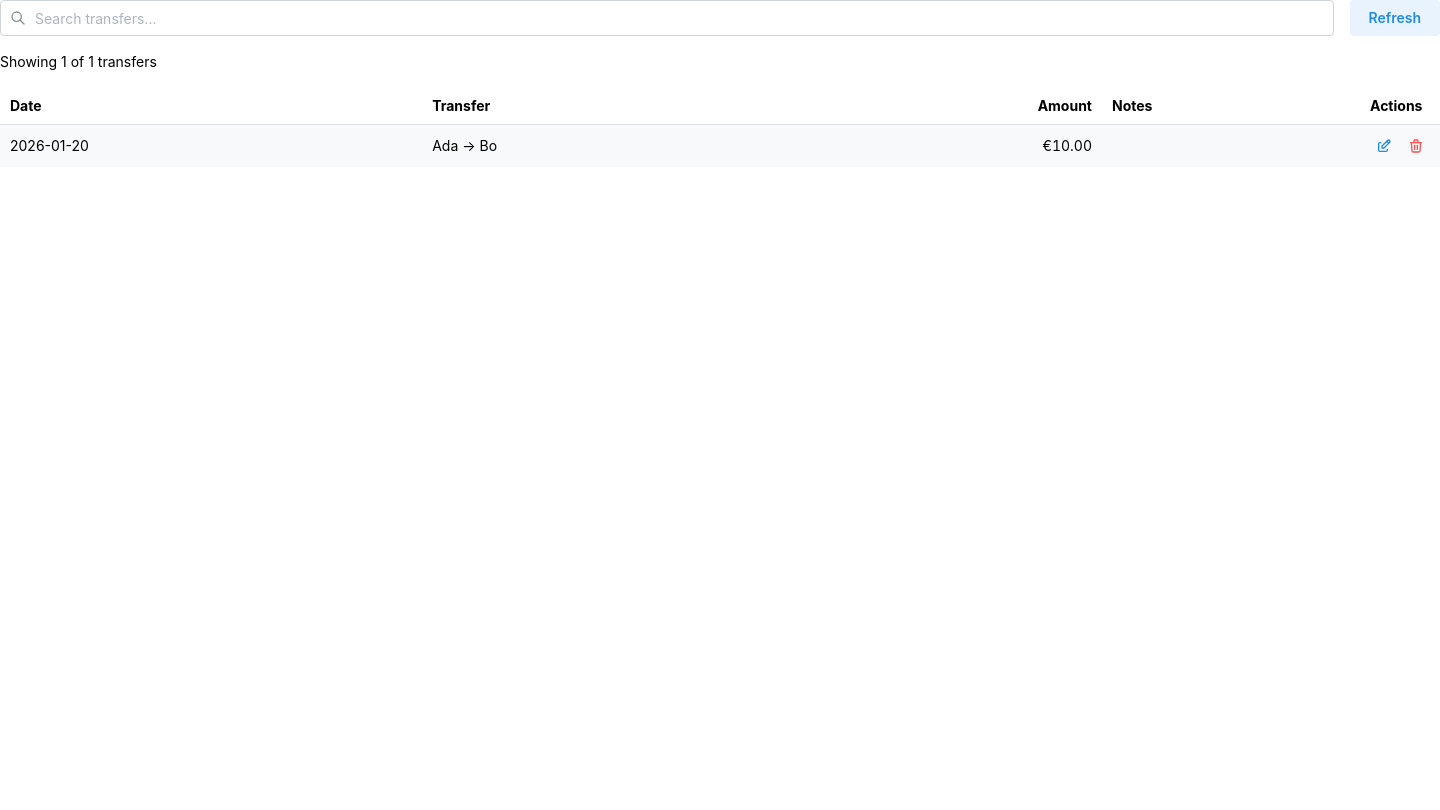
deleting a row › surfaces a failed delete
Click the button titled "Delete" at (1416,146), box [1402, 132, 1430, 160]
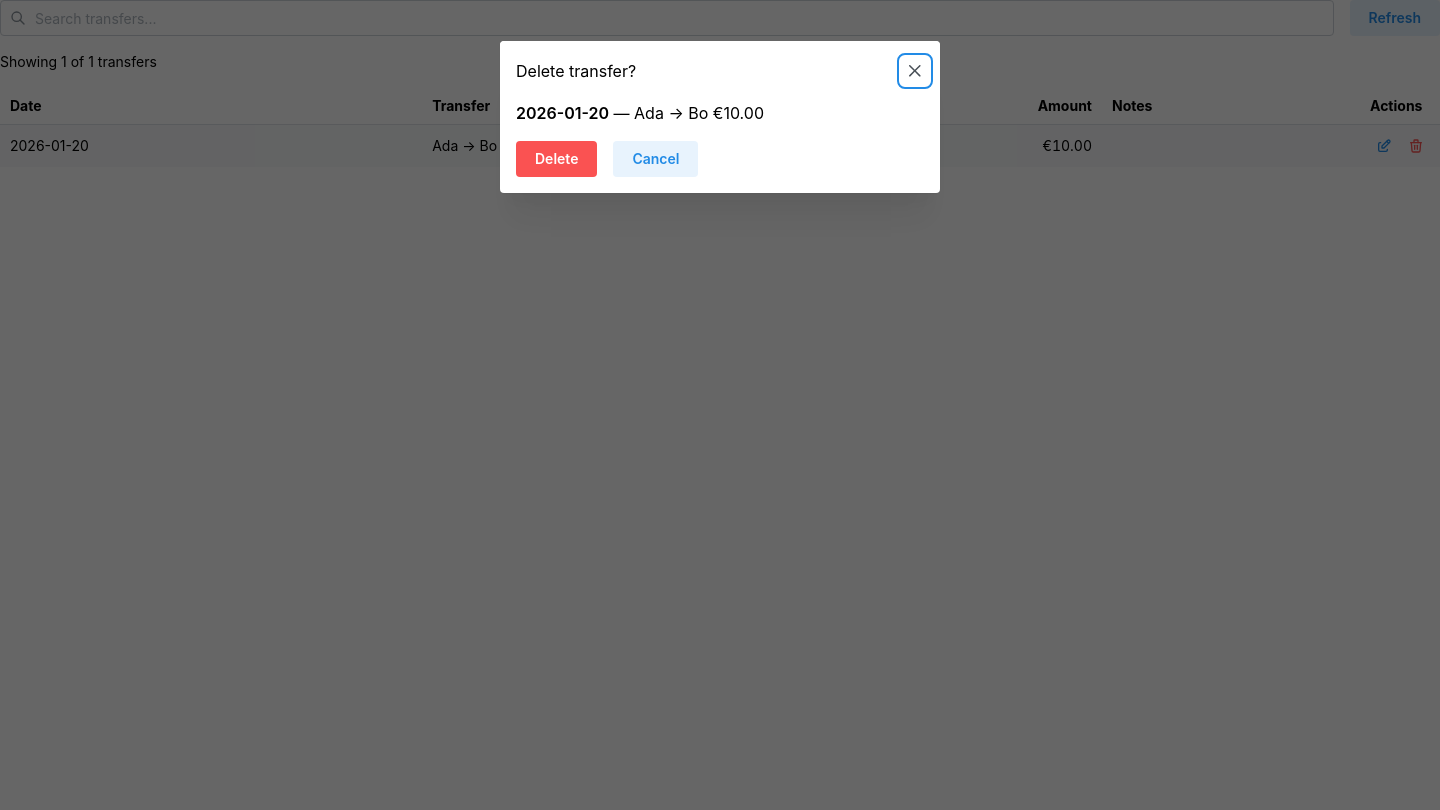
Click the button "Delete" at (557,159), box [516, 141, 597, 177]
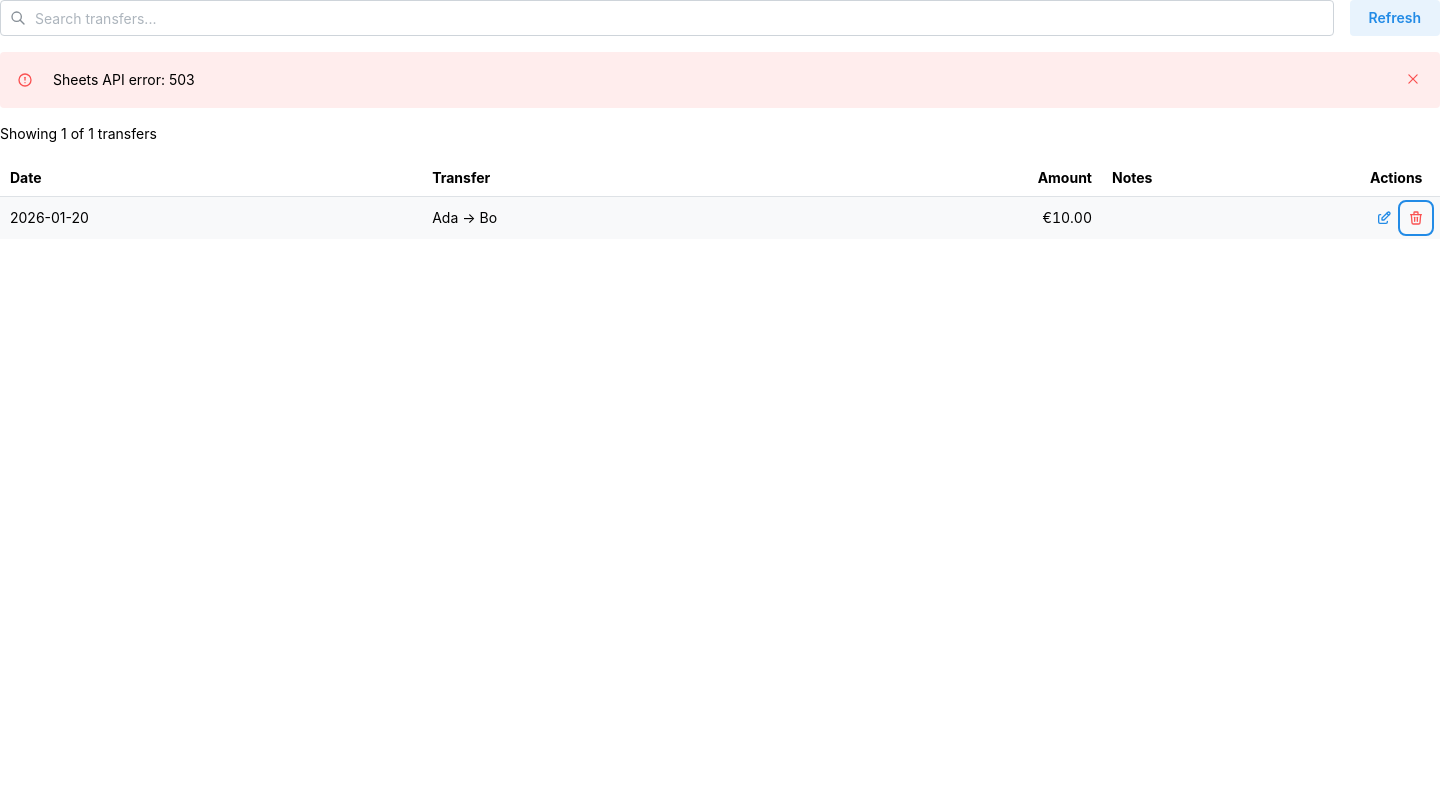
Result: the text "Sheets API error: 503" is shown at [53, 71, 195, 88]
